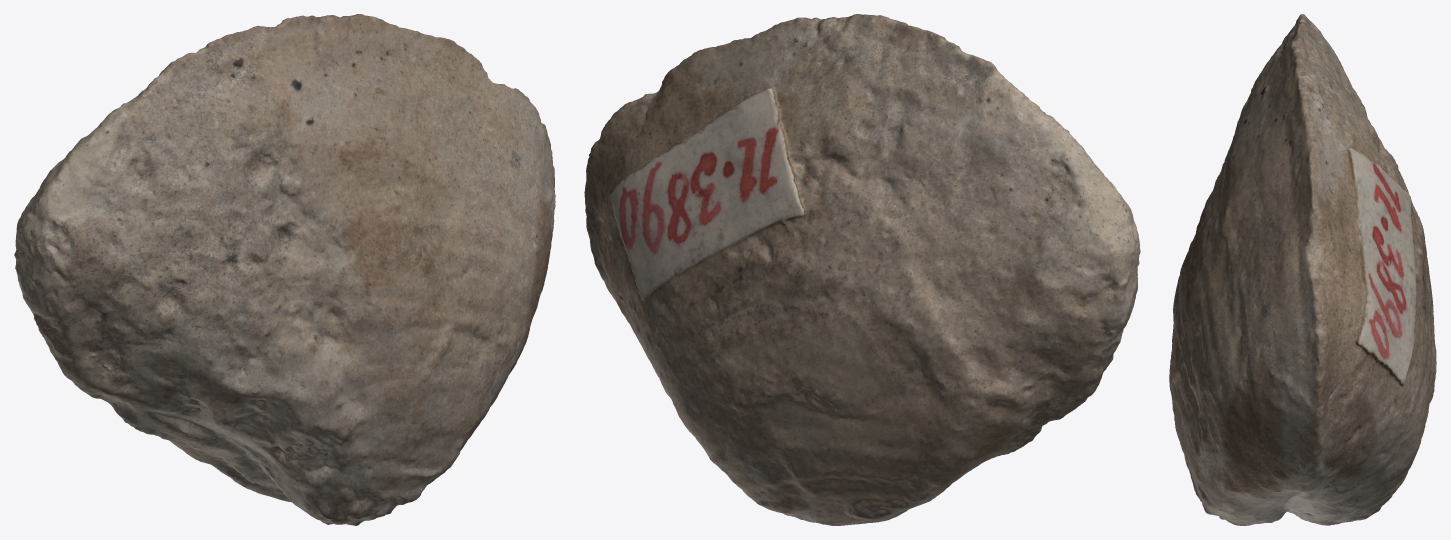
File: EWS0014088.glb
The picture shows the model from 3 angles, left to right: view 1: azimuth 30°, elevation 25°; view 2: azimuth 150°, elevation 25°; view 3: azimuth 270°, elevation 25°; orthographic projection. The views are drawn at different scales.
Parts seen in each view (by area): view 1: input; view 2: input; view 3: input.
Boxes of the visible parts, <box> form: input: <box>14,14,555,525</box>; input: <box>584,14,1140,525</box>; input: <box>1169,14,1436,525</box>.
Bounding box in the file's own units: 0.0306 × 0.0269 × 0.0143.
Materials: 1 (1 with a texture image).
